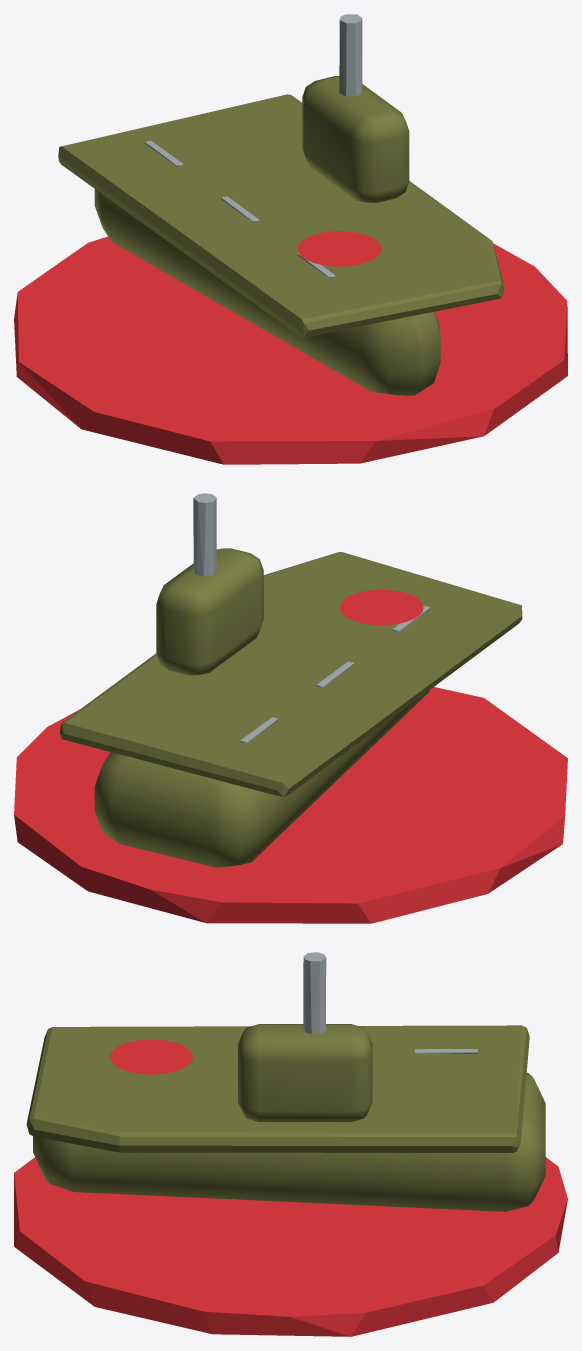
The model's file is japan_navy_lod1.glb.
The picture shows the model from 3 angles, top to bottom: view 1: azimuth 30°, elevation 25°; view 2: azimuth 150°, elevation 25°; view 3: azimuth 270°, elevation 25°; orthographic projection.
Parts seen in each view (by area): view 1: body_hull, base_pedestal; view 2: body_hull, base_pedestal; view 3: body_hull, base_pedestal.
Boxes of the visible parts, <box> form: body_hull: <box>58,14,504,396</box>; base_pedestal: <box>14,236,567,464</box>; body_hull: <box>60,493,522,867</box>; base_pedestal: <box>14,687,567,923</box>; body_hull: <box>26,952,545,1211</box>; base_pedestal: <box>14,1157,567,1336</box>.
Bounding box in the file's own units: 0.7751 × 0.4613 × 0.7751.
